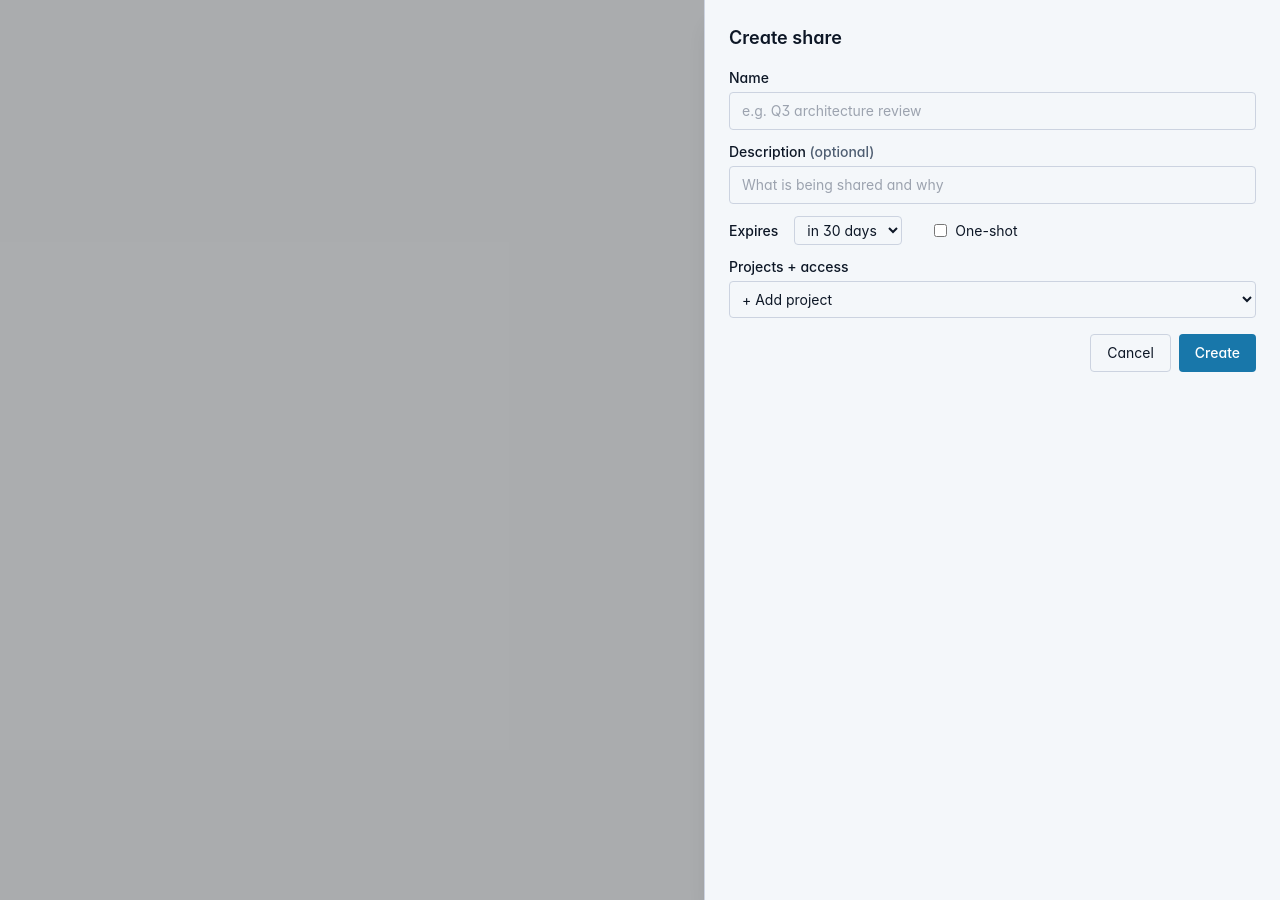
CreateSharePanel created result › renders the per-share /mcp/{id} URL with a copy control
This screenshot has width=1280, height=900.
Type "Q3 share" into the field with placeholder "e.g. Q3 architecture review". click: (992, 111)
box: [729,92,1256,130]
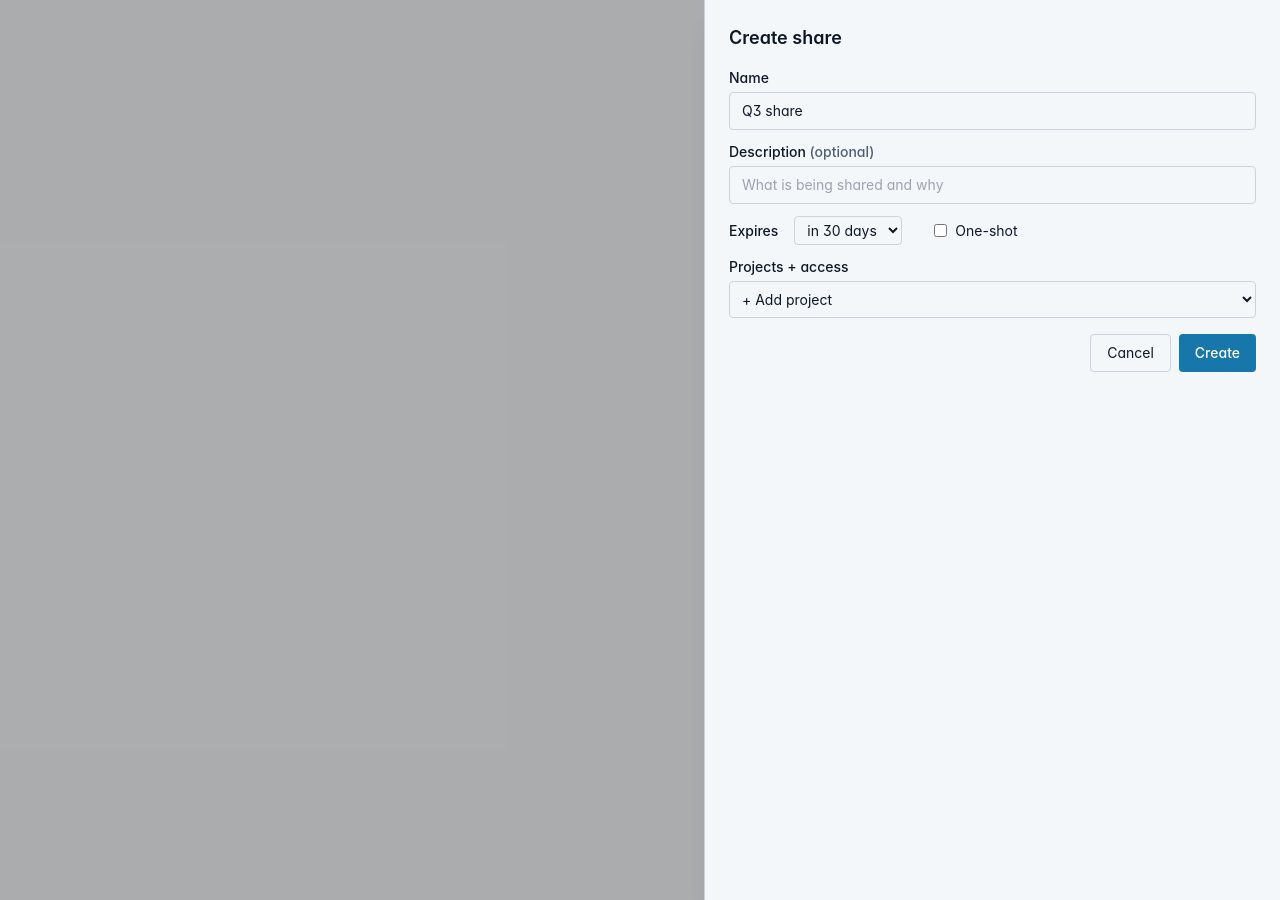
Select "Alpha (alpha)" in the dropdown "+ Add project" below "Projects + access". click: (992, 300)
box: [729,281,1256,318]
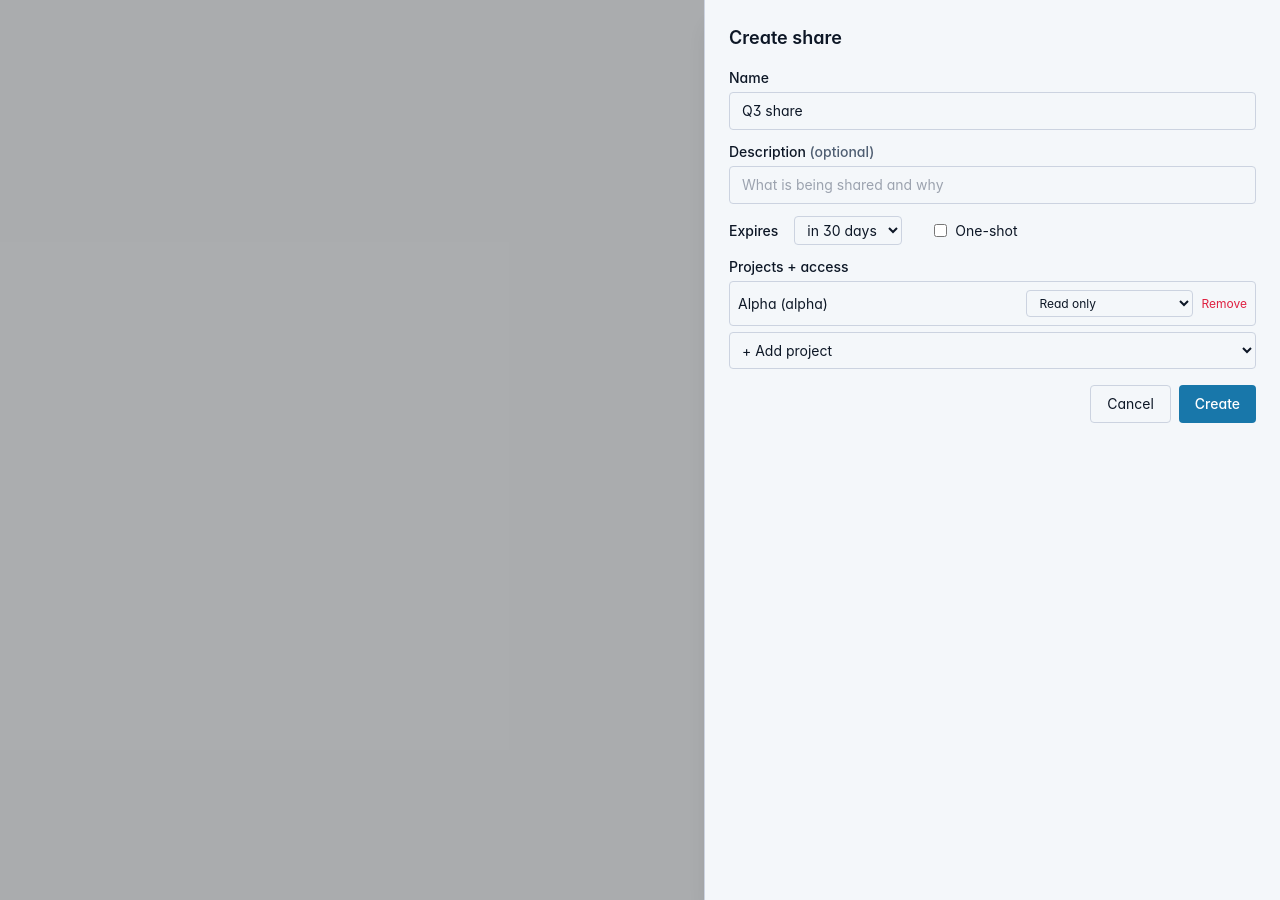
Click the button "Create". click: click(1217, 404)
box: [1179,385,1256,423]
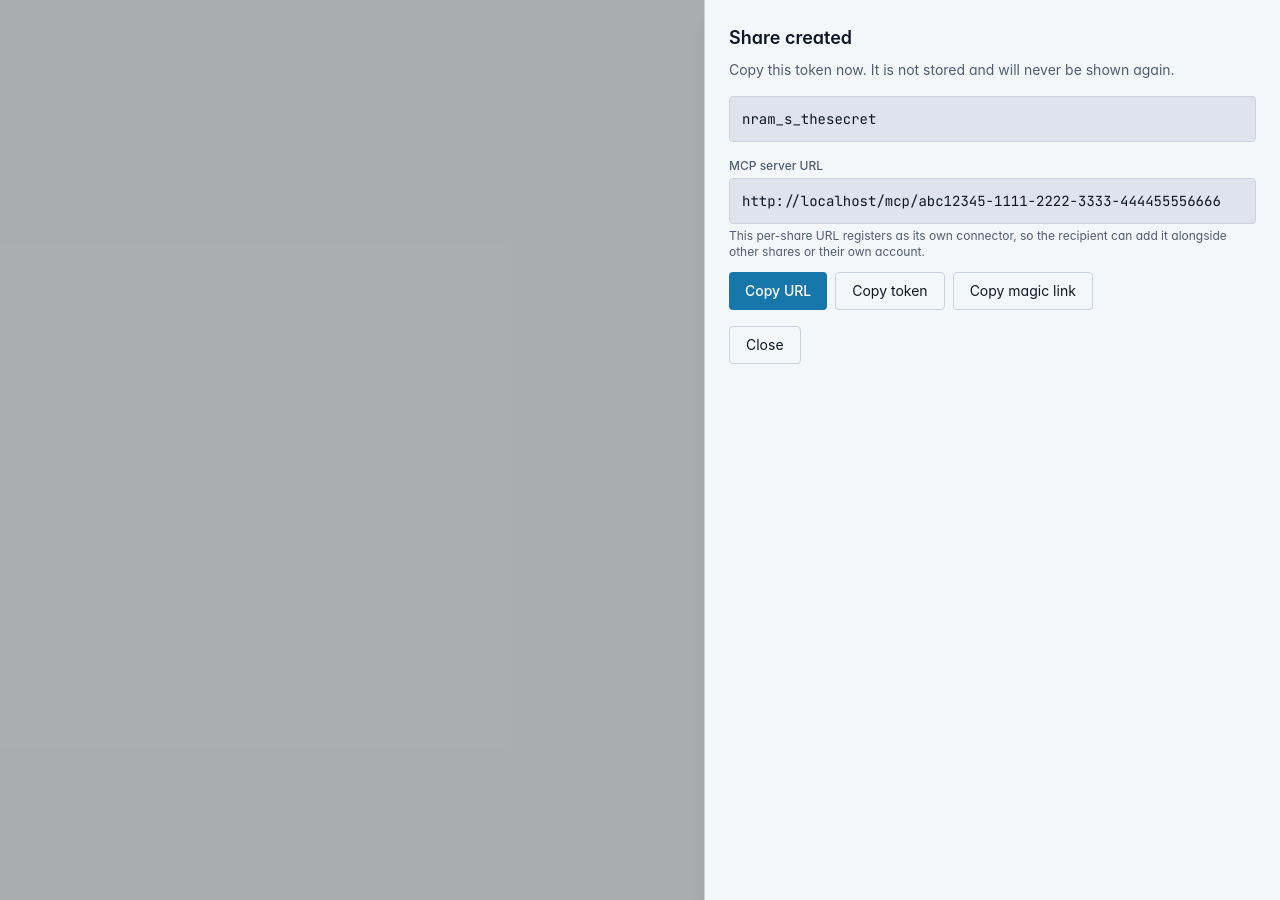
expect the button "Copy URL" is shown: met, box [729,272,827,310]
